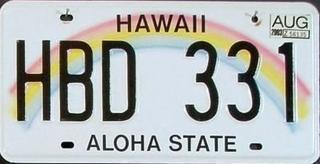placa de veiculo: (3, 2, 313, 164)
